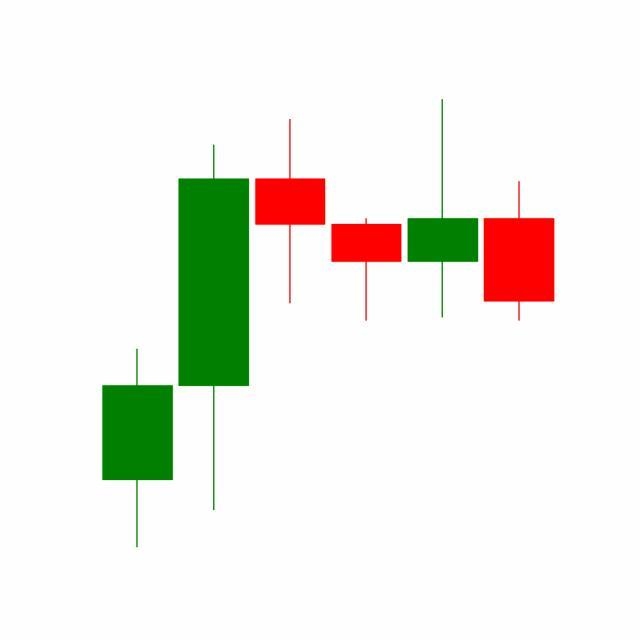Spinning Top: (404, 98, 482, 322)
